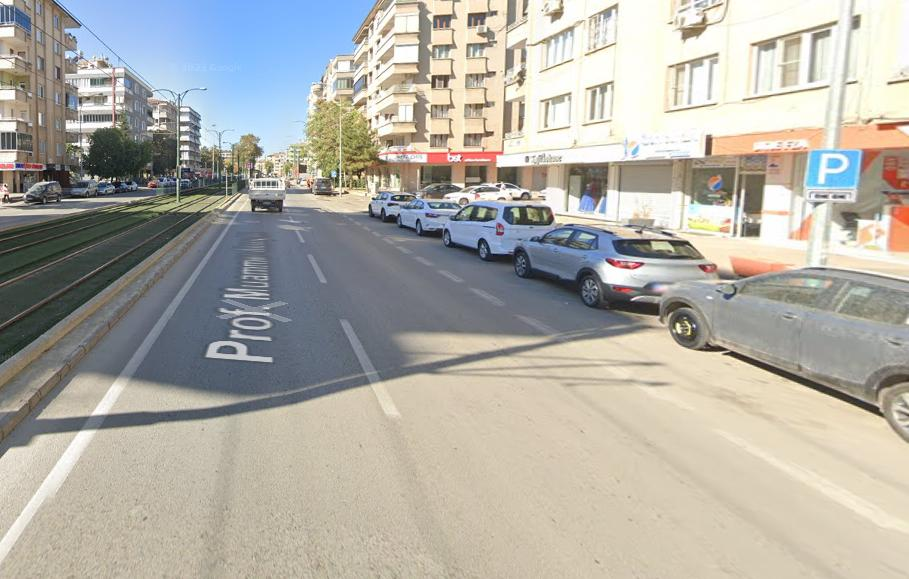park: (811, 150, 858, 188)
